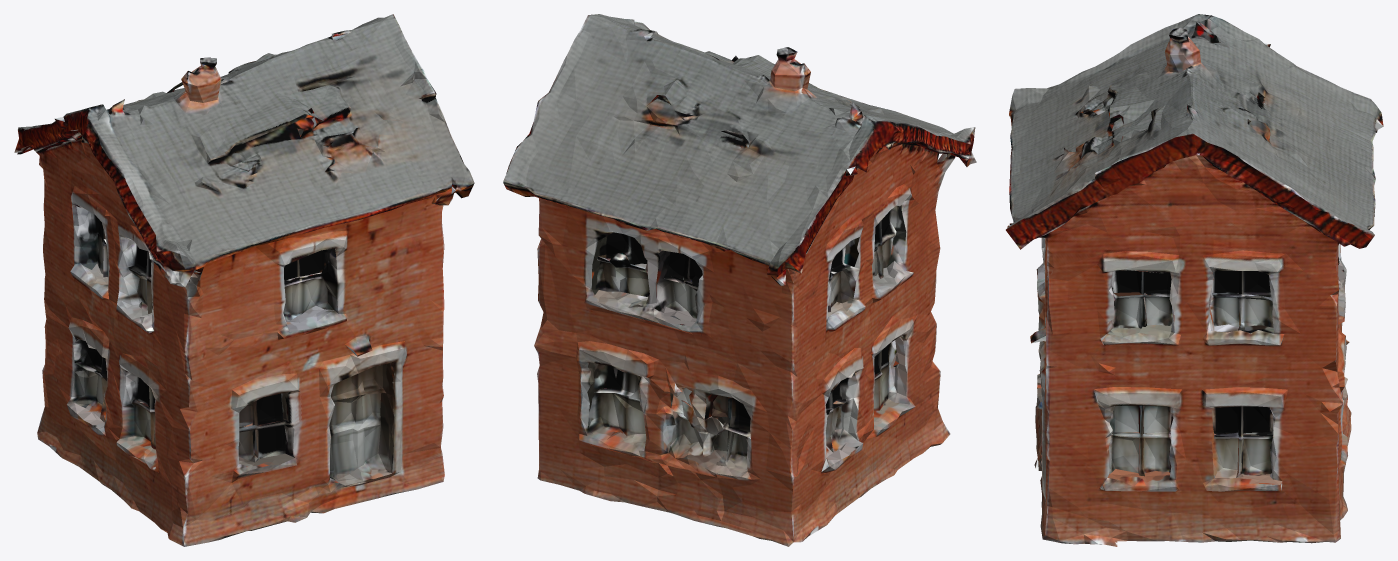
Rendered from ruined_house.glb.
3 views of the same model, side by side, from view 1: azimuth 30°, elevation 25°; view 2: azimuth 150°, elevation 25°; view 3: azimuth 270°, elevation 25° (orthographic). The views are drawn at different scales.
Parts seen in each view (by area): view 1: temp_mesh.ply; view 2: temp_mesh.ply; view 3: temp_mesh.ply.
Boxes of the visible parts, x1=… form: temp_mesh.ply: x1=14, y1=14, x2=474, y2=546; temp_mesh.ply: x1=503, y1=14, x2=976, y2=546; temp_mesh.ply: x1=1006, y1=14, x2=1383, y2=546.
Size of the model in its own units: 1.58 by 1.97 by 1.59.
1 material, 1 textured.
